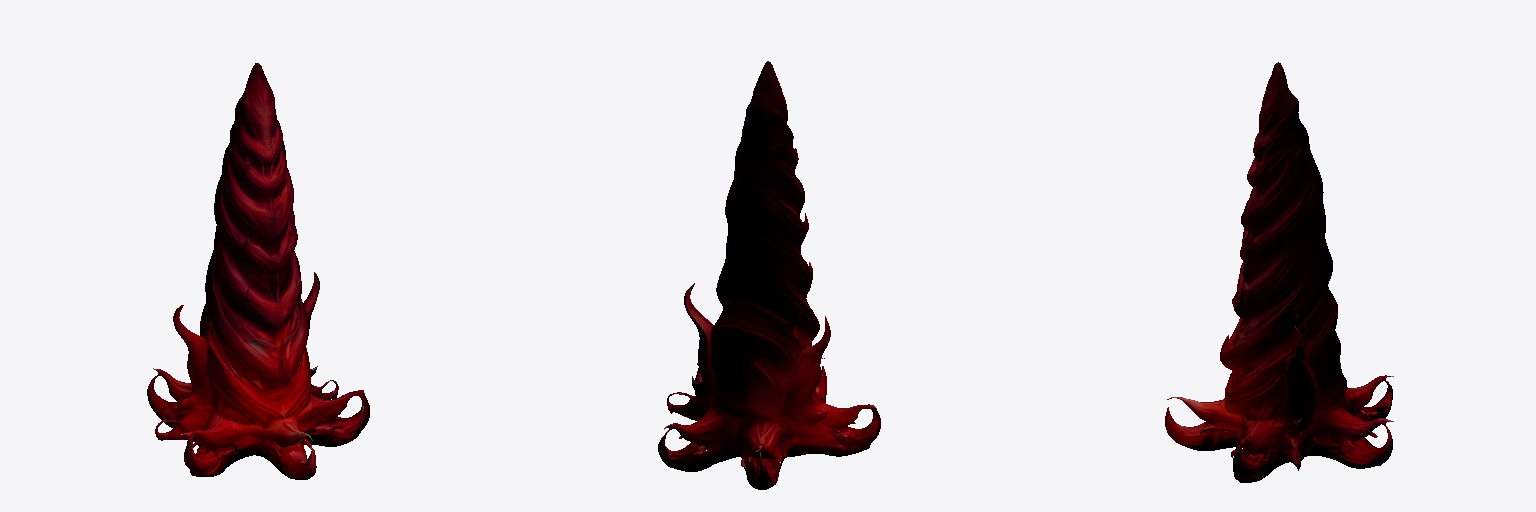
The picture shows the model from 3 angles: view 1: azimuth 30°, elevation 25°; view 2: azimuth 150°, elevation 25°; view 3: azimuth 270°, elevation 25°; orthographic projection.
Visible parts, largest first — view 1: model; view 2: model; view 3: model.
Part boxes in pixels (left/top/right/bottom): model: left=147, top=63, right=369, bottom=479; model: left=658, top=61, right=880, bottom=489; model: left=1165, top=62, right=1393, bottom=482.
Size of the model in its own units: 0.9534 by 1.9 by 1.02.
Materials: 1 (1 with a texture image).